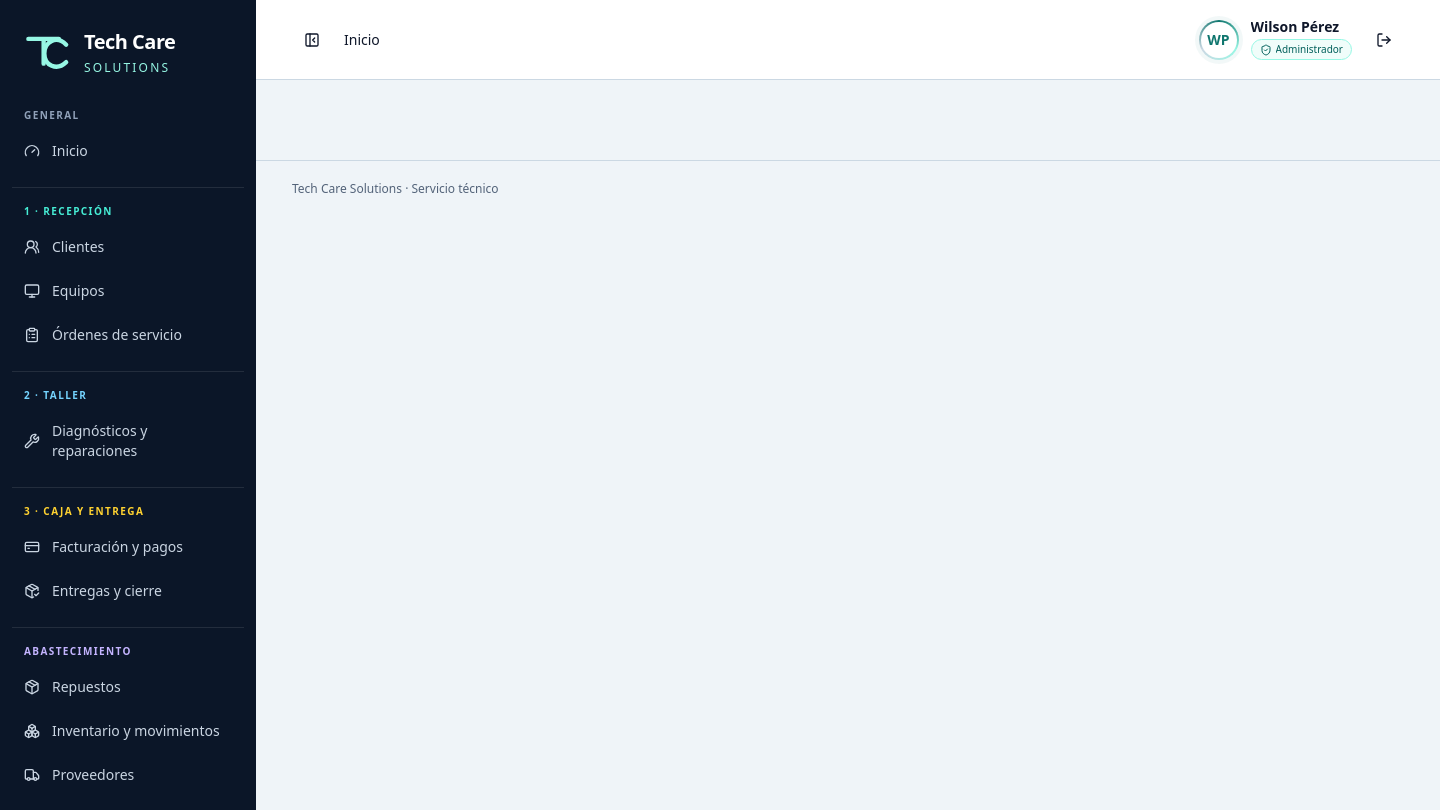
navegación y sesión de Tech Care Solutions › muestra rol y permisos del usuario
The width and height of the screenshot is (1440, 810).
Click the button with aria-label "Ver tu rol y permisos": [1301, 50] box [1250,39,1352,60]
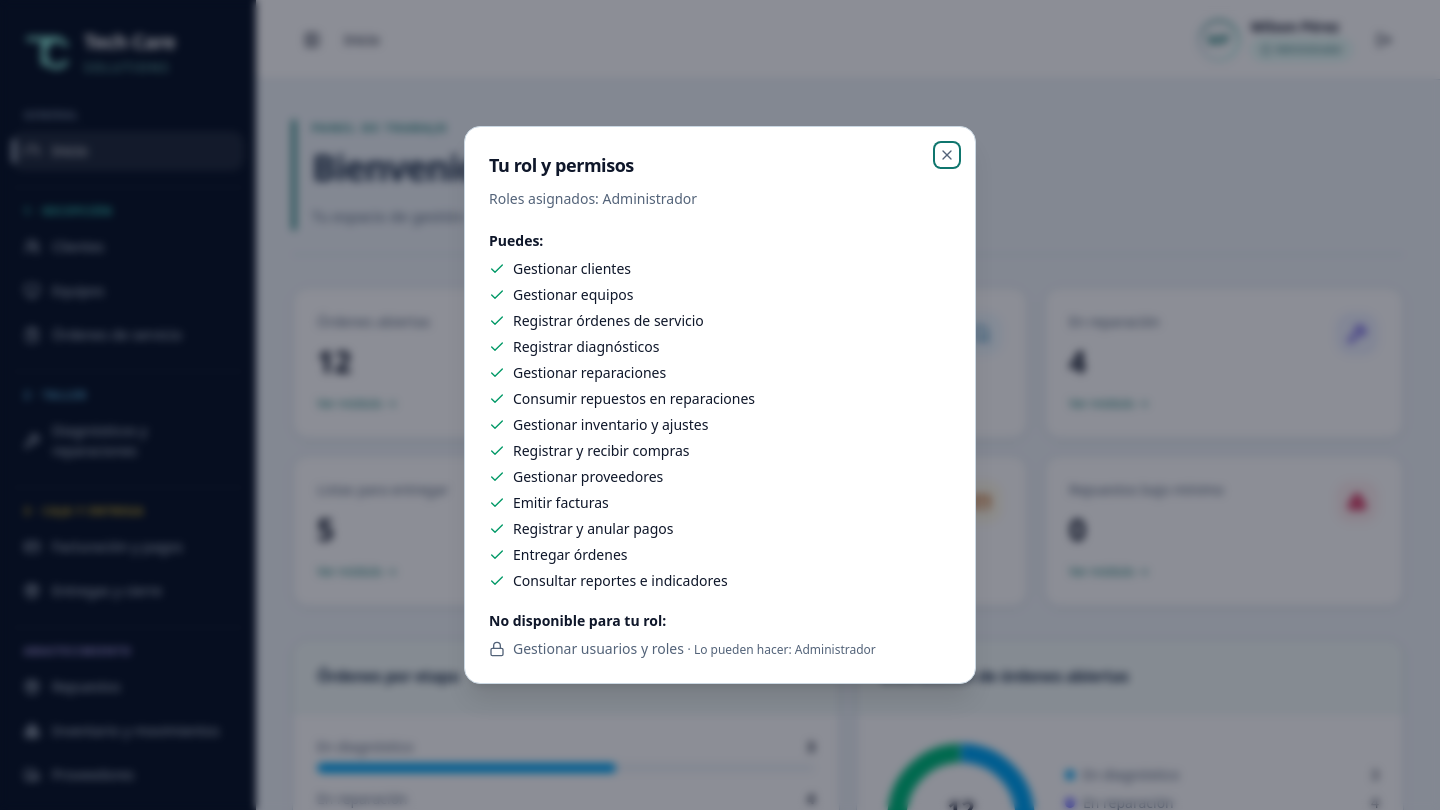
expect the heading "Puedes:" is shown: met, box [489,231,543,250]
expect the list item "Gestionar clientes" is shown: met, box [489,259,631,278]
expect the heading "No disponible para tu rol:" is shown: met, box [489,611,666,630]
